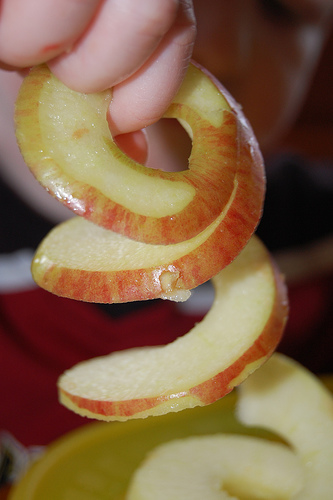apple: (7, 58, 331, 498)
